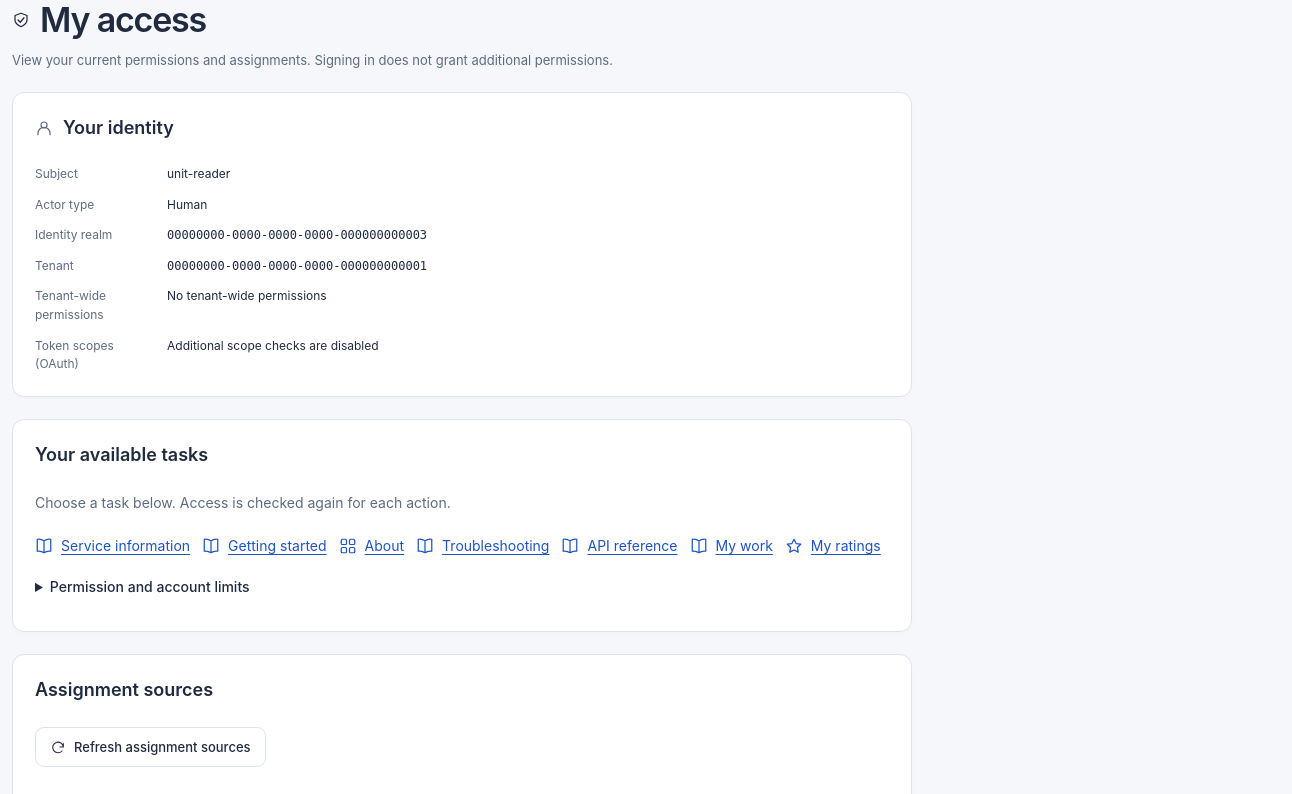
Scenario: refreshes cosmetic self captions without protected directory reads
Click the button "Refresh assignment sources": {"x": 150, "y": 747} [35, 727, 266, 767]
(page scrolled)
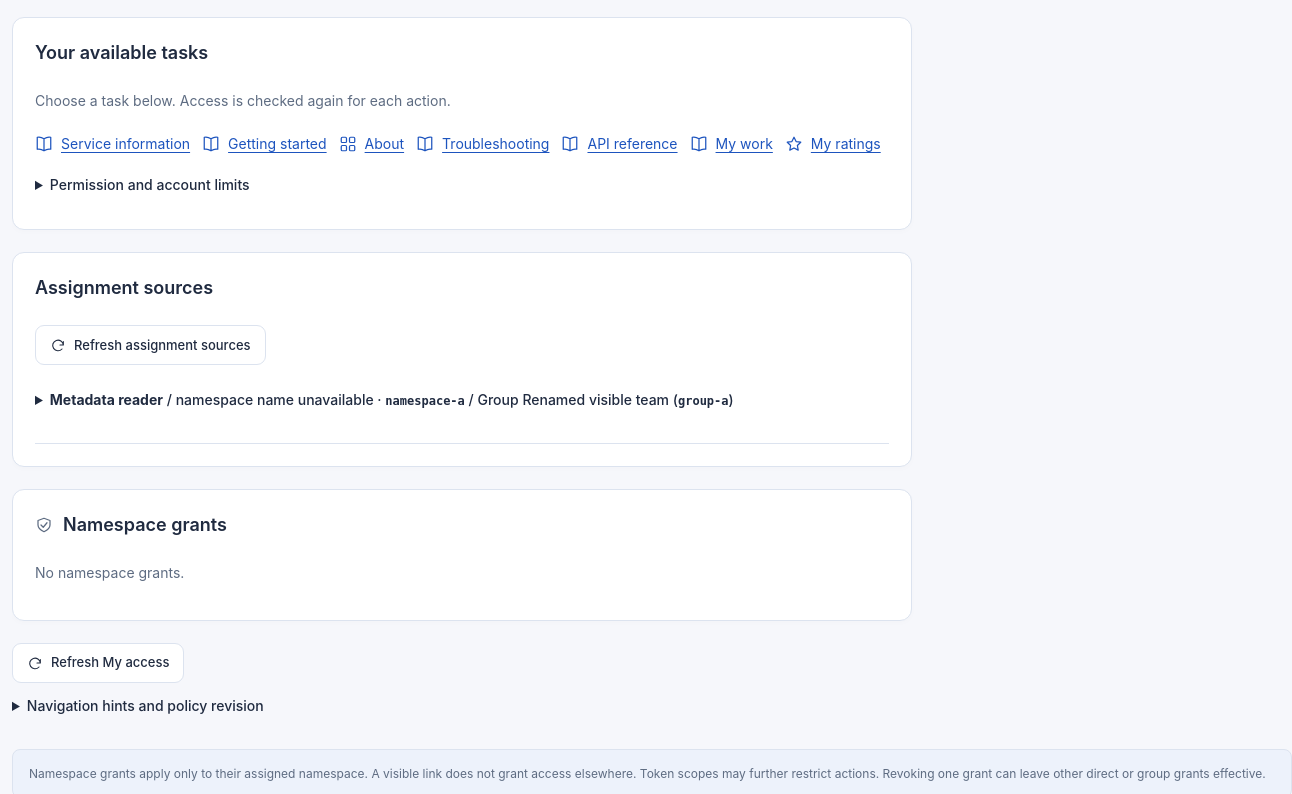
Expected: the heading "Group Renamed visible team" is shown, [50, 391, 734, 408]
